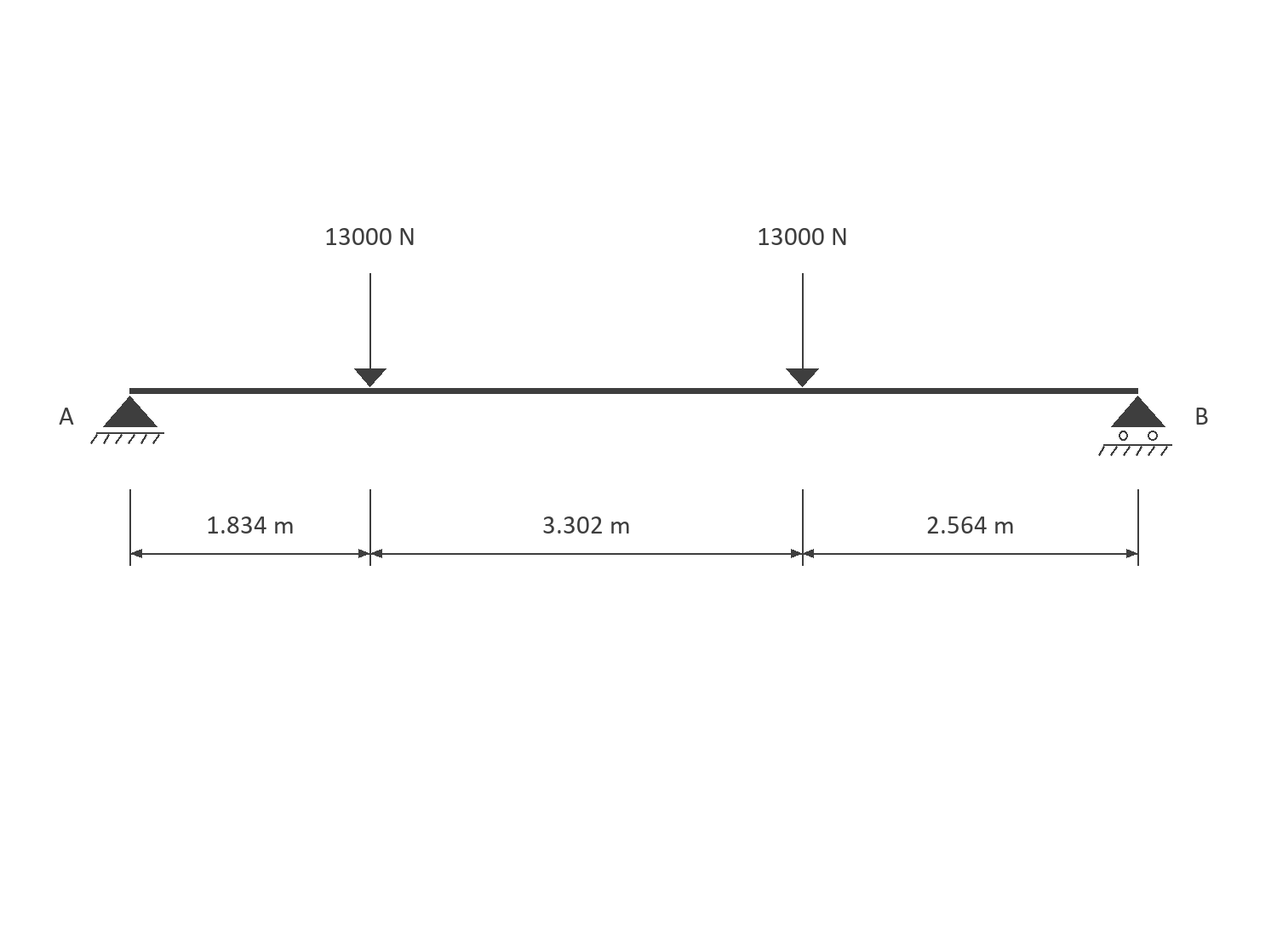pin_support: (90, 396, 164, 444)
point_load: (354, 273, 387, 387), (786, 273, 819, 387)
roller_support: (1098, 396, 1172, 456)
